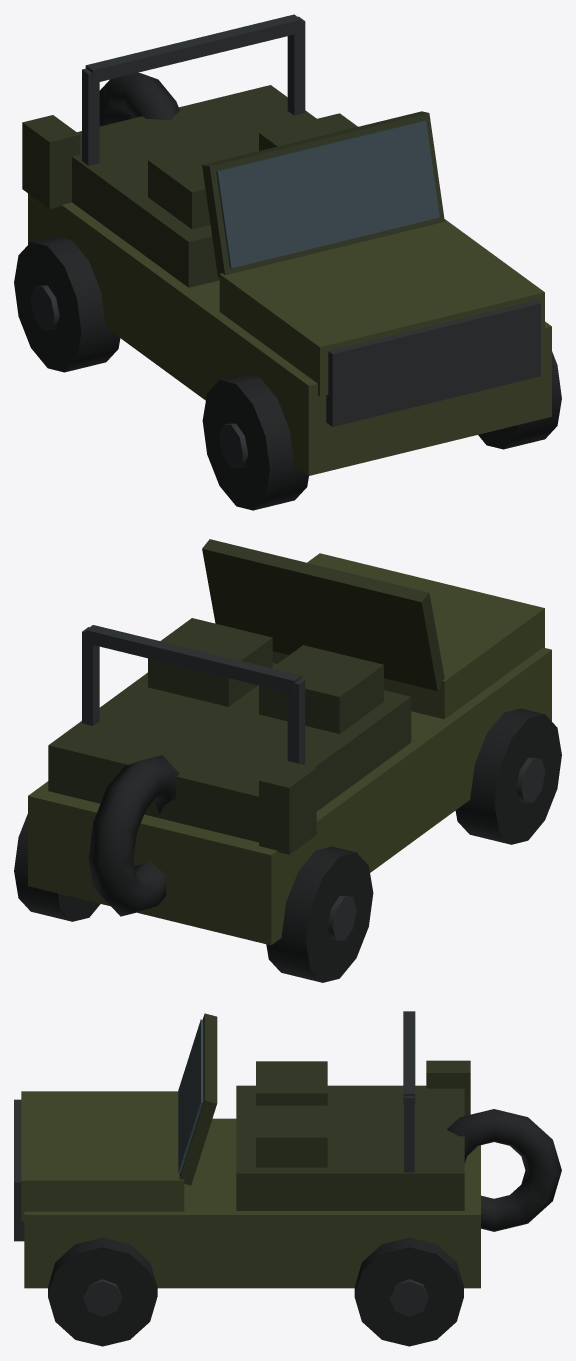
Rendered from jeep_military.glb.
3 views of the same model, one above another, from view 1: azimuth 30°, elevation 25°; view 2: azimuth 150°, elevation 25°; view 3: azimuth 270°, elevation 25° (orthographic). The views are drawn at different scales.
Parts seen in each view (by area): view 1: JeepMilitary; view 2: JeepMilitary; view 3: JeepMilitary.
Boxes of the visible parts, x1,y1,x2,y2 form: JeepMilitary: (14, 14, 561, 510); JeepMilitary: (14, 539, 561, 982); JeepMilitary: (14, 1011, 561, 1346).
Size of the model in its own units: 2.17 by 1.99 by 4.2.
